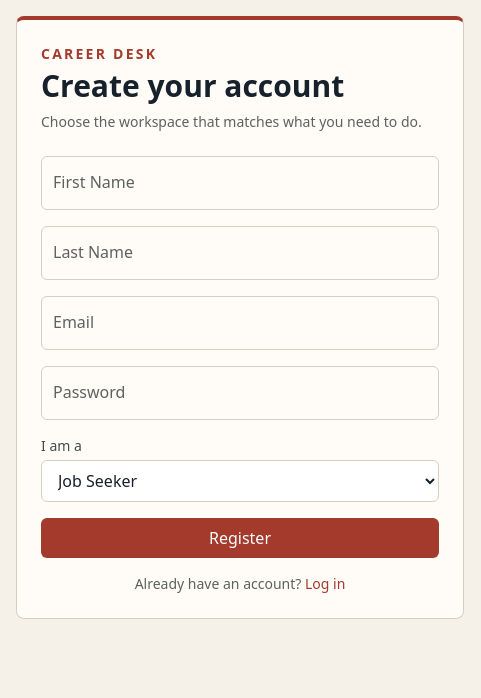
Test: RegisterPage › shows an error message on registration failure
Type "Ada" into the field labelled "First Name".
click(240, 183); type("Ada")  # box 41,156 -> 439,210
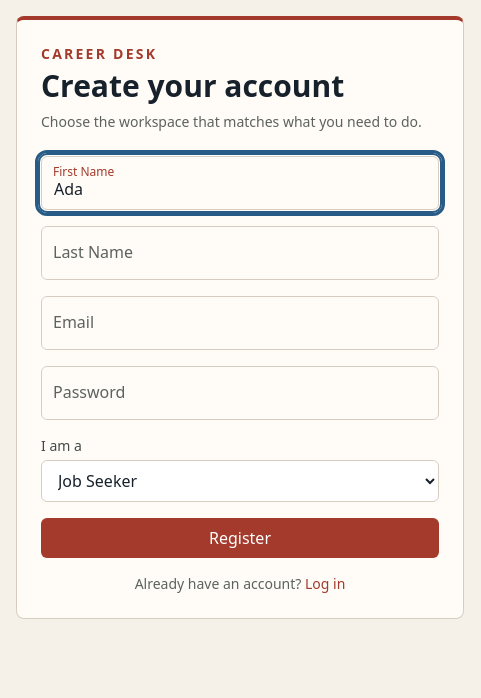
Type "Lovelace" into the field labelled "Last Name".
click(240, 253); type("Lovelace")  # box 41,226 -> 439,280
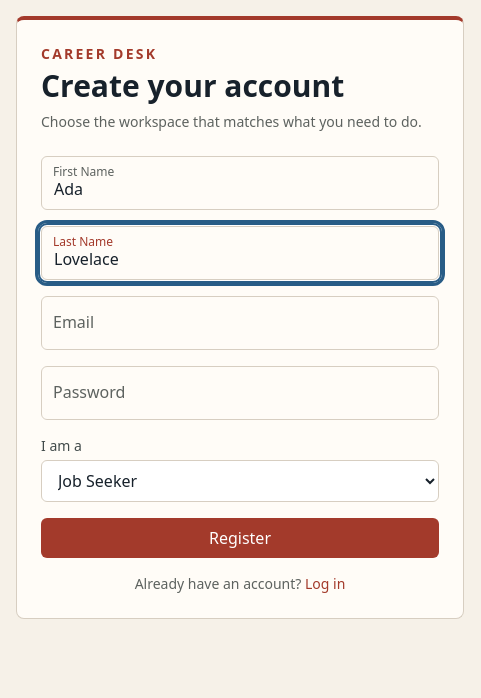
Type "ada@test.com" into the field labelled "Email".
click(240, 323); type("ada@test.com")  # box 41,296 -> 439,350
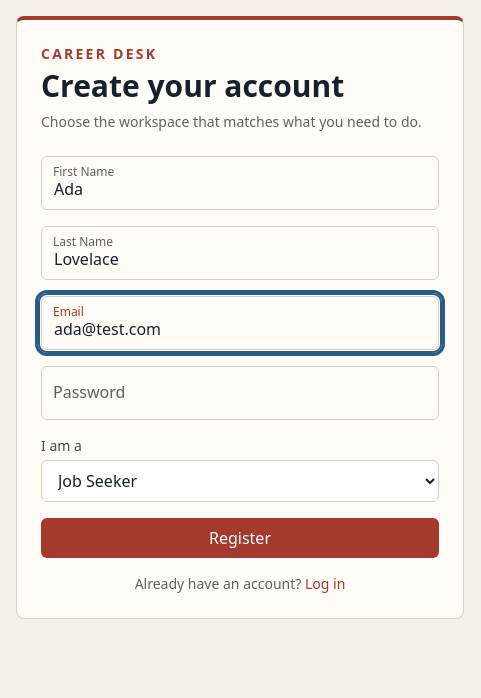
Type "password123" into the password field labelled "Password".
click(240, 393); type("password123")  # box 41,366 -> 439,420
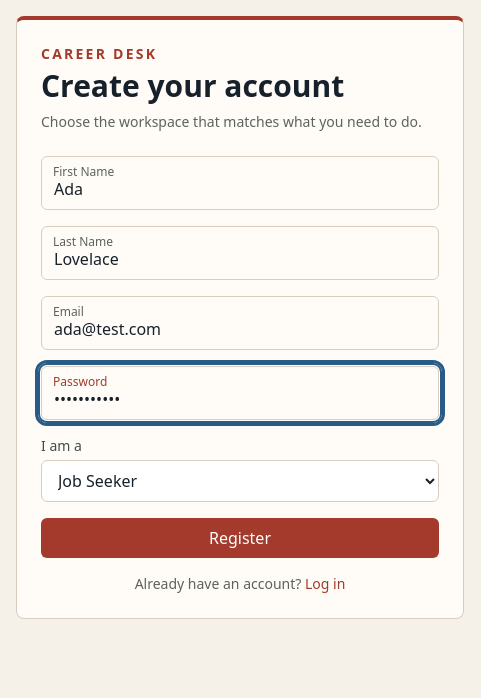
Click the button "Register".
click(240, 538)  # box 41,518 -> 439,558
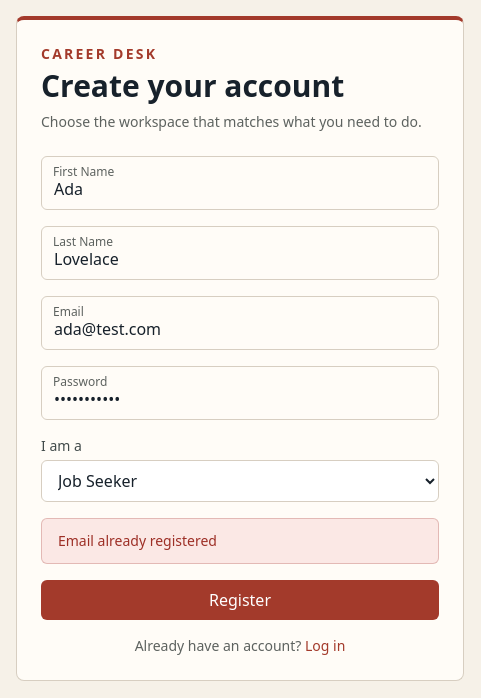
Now the text "Email already registered" is shown, box 58,531 -> 217,550
